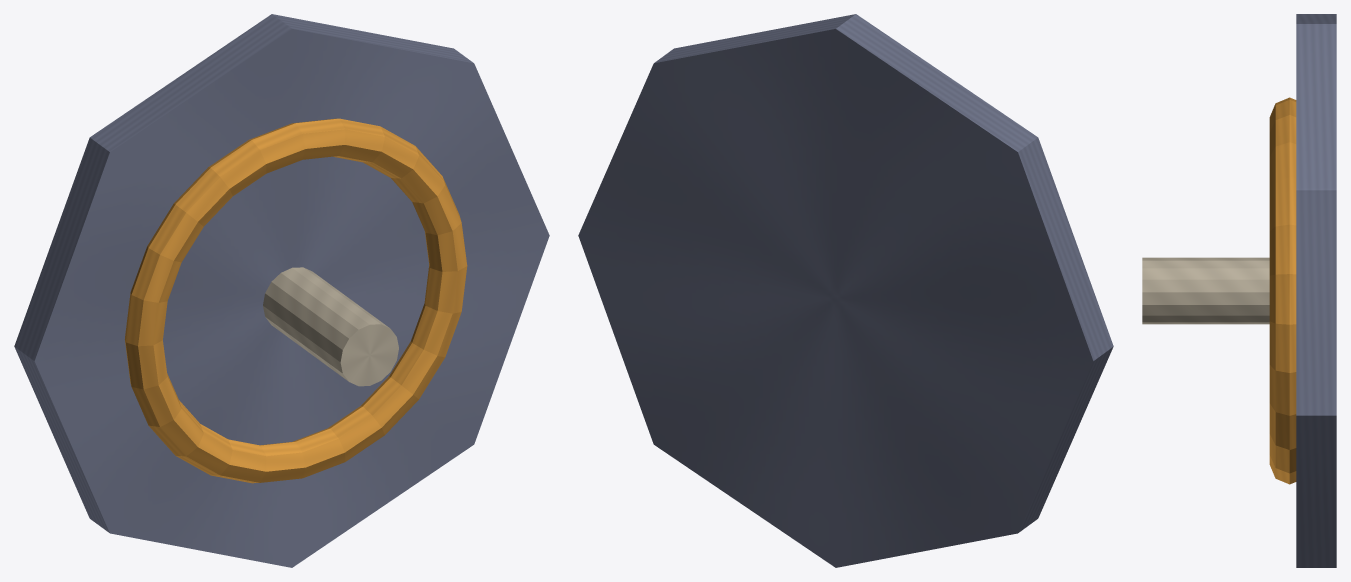
Rendered from bulwark-brand.glb.
3 renders of one model, left to right at view 1: azimuth 30°, elevation 25°; view 2: azimuth 150°, elevation 25°; view 3: azimuth 270°, elevation 25°, orthographic.
Visible parts, largest first — view 1: brand-shield-face, brand-rune-mark, brand-handle; view 2: brand-shield-face; view 3: brand-shield-face, brand-rune-mark, brand-handle.
Part boxes in pixels (x1,y1,x2,y2): brand-shield-face: (14,14,549,567); brand-rune-mark: (124,118,467,483); brand-handle: (263,267,398,386); brand-shield-face: (578,14,1113,567); brand-shield-face: (1296,14,1336,567); brand-rune-mark: (1269,97,1296,484); brand-handle: (1142,257,1269,324).
Size of the model in its own units: 0.44 by 0.44 by 0.145.
3 materials, 3 textured.
